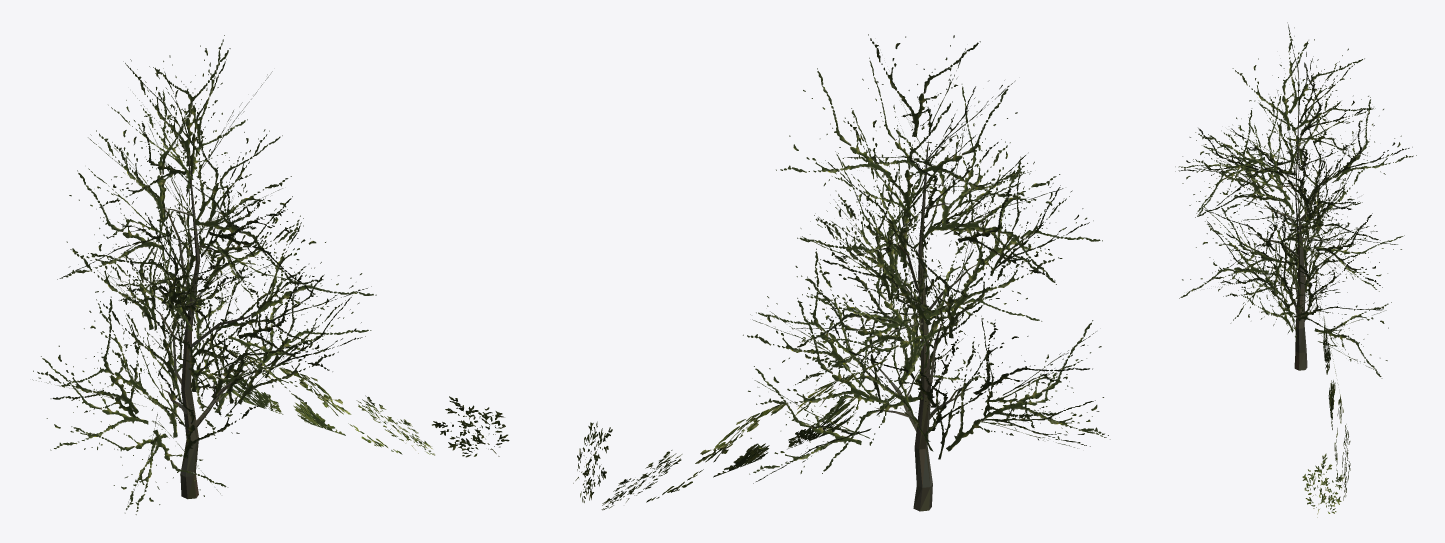
File: laubbaum_08.glb
3 views of the same model, side by side, from view 1: azimuth 30°, elevation 25°; view 2: azimuth 150°, elevation 25°; view 3: azimuth 270°, elevation 25° (orthographic). The views are drawn at different scales.
Parts seen in each view (by area): view 1: laub, rinde; view 2: laub, rinde; view 3: laub, rinde.
Boxes of the visible parts, x1,y1,x2,y2 form: laub: [32, 35, 509, 514]; rinde: [155, 151, 256, 499]; laub: [573, 34, 1110, 510]; rinde: [875, 141, 976, 511]; laub: [1175, 22, 1416, 517]; rinde: [1256, 115, 1338, 370].
Size of the model in its own units: 7.13 by 7.2 by 4.47.
Materials: 2 (1 with a texture image).
